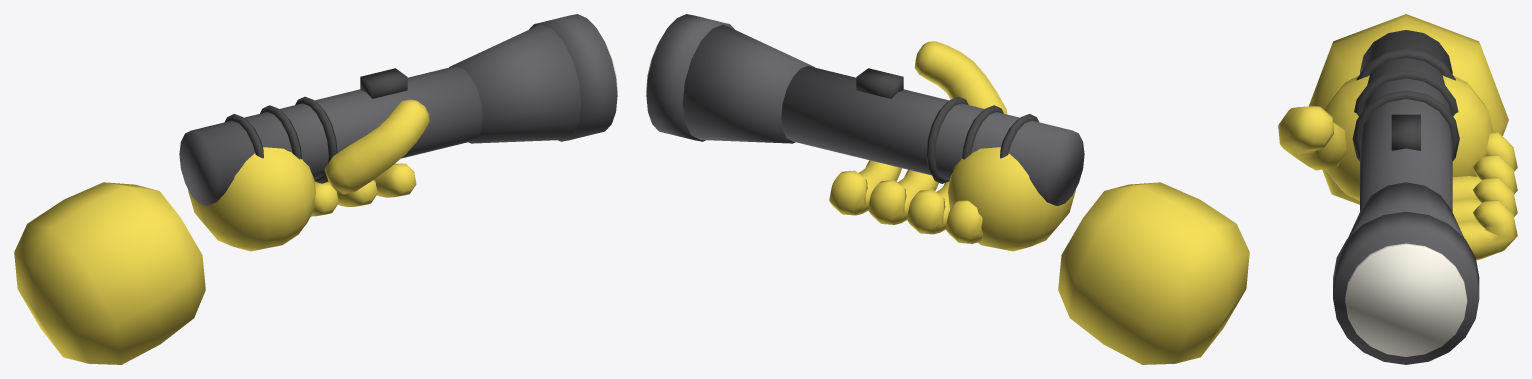
File: SM_Flashlight_FP.fbx
3 views of the same model, side by side, from view 1: azimuth 30°, elevation 25°; view 2: azimuth 150°, elevation 25°; view 3: azimuth 270°, elevation 25° (orthographic). The views are drawn at different scales.
Visible parts, largest first — view 1: SM_Flashlight_FP; view 2: SM_Flashlight_FP; view 3: SM_Flashlight_FP.
Boxes of the visible parts, x1,y1,x2,y2 form: SM_Flashlight_FP: (14,14,617,364); SM_Flashlight_FP: (646,14,1249,364); SM_Flashlight_FP: (1278,14,1517,364).
Size of the model in its own units: 31.81 by 12.09 by 9.82.
